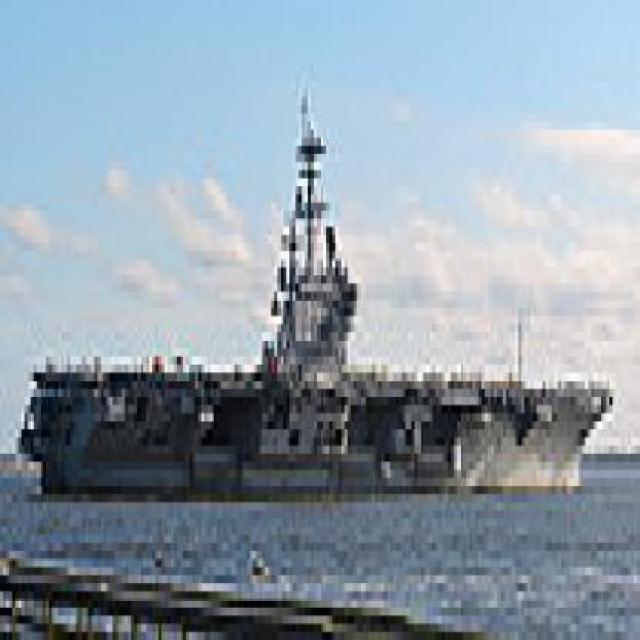warship2: (10, 74, 610, 536)
